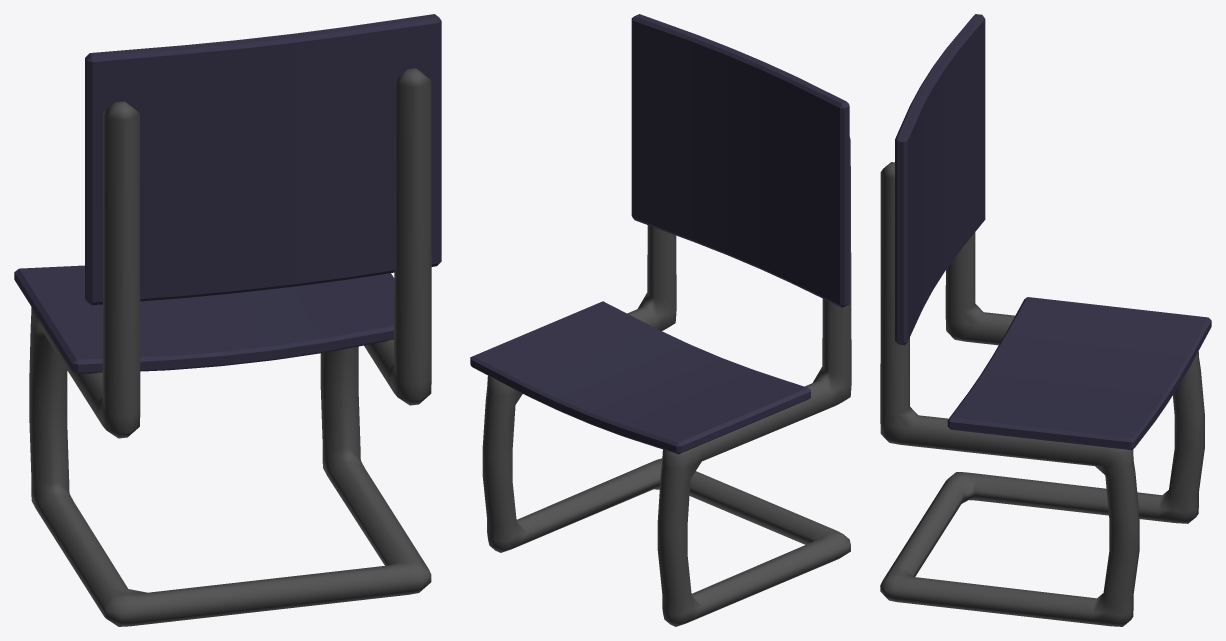
Rendered from sovrum_stol.fbx.
3 views of the same model, side by side, from view 1: azimuth 30°, elevation 25°; view 2: azimuth 150°, elevation 25°; view 3: azimuth 270°, elevation 25° (orthographic). The views are drawn at different scales.
Parts seen in each view (by area): view 1: polySurface1559; view 2: polySurface1559; view 3: polySurface1559.
Part boxes in pixels (<box>): polySurface1559: <box>14,14,441,626</box>; polySurface1559: <box>470,14,851,626</box>; polySurface1559: <box>880,14,1211,626</box>.
Size of the model in its own units: 6.37 by 9.3 by 5.89.
